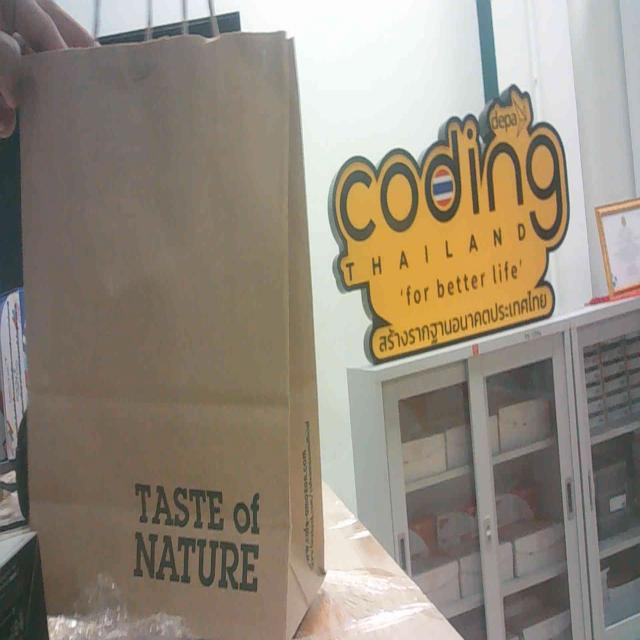bag: (12, 60, 328, 639)
